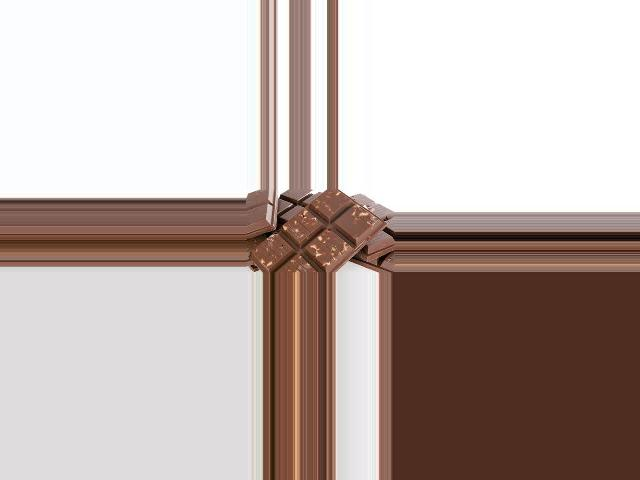chocolate: (250, 190, 376, 273)
